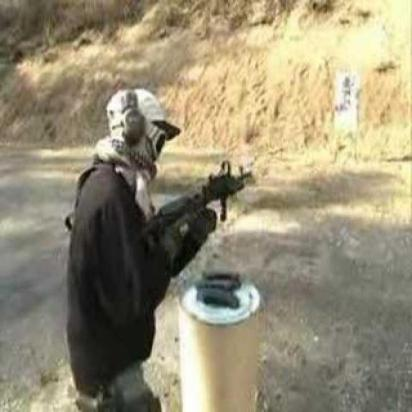Gun: (143, 156, 252, 244)
